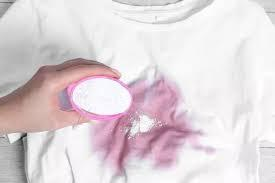ink: (138, 130, 187, 166), (134, 83, 182, 113), (94, 128, 125, 172)
